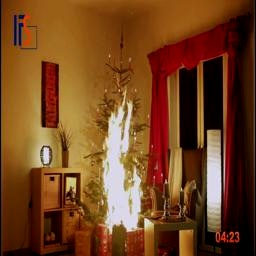fire: (93, 91, 152, 232)
